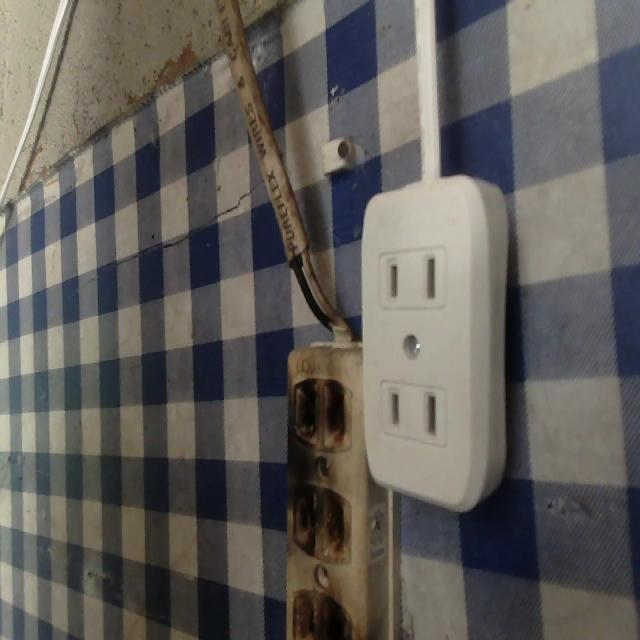-: (290, 374, 361, 458), (288, 481, 357, 563), (289, 582, 360, 638)
